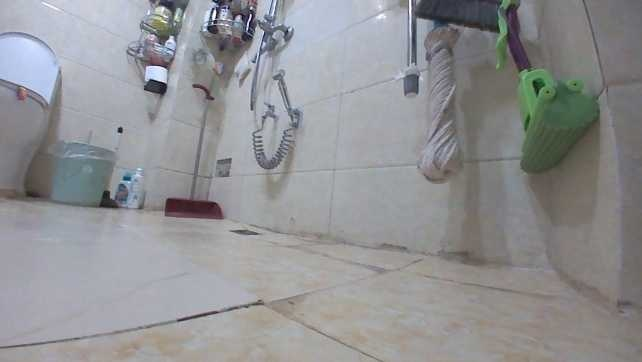toilet: (0, 30, 63, 199)
trash_can: (44, 131, 117, 208)
